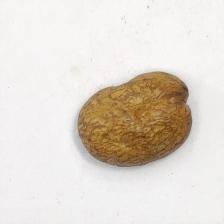NG: (78, 81, 180, 161)
